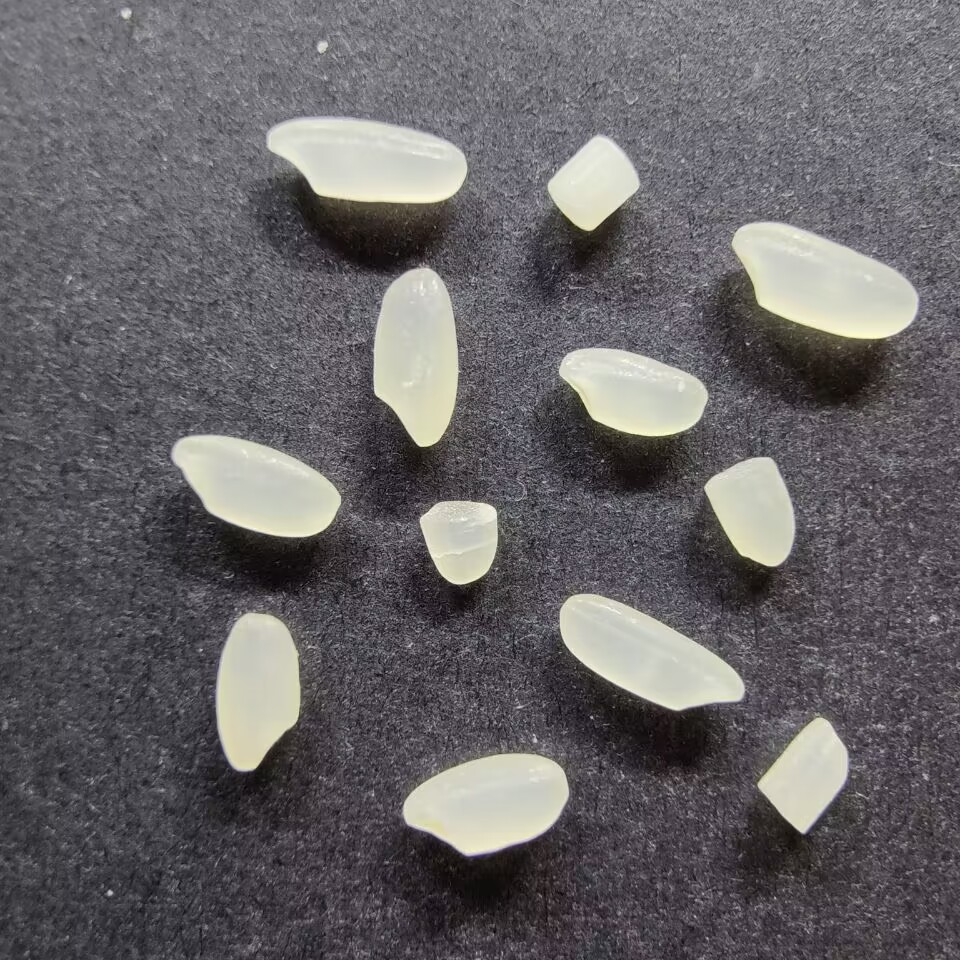broken: (754, 714, 851, 835), (704, 454, 797, 568), (546, 134, 640, 234), (416, 499, 500, 587)
rice: (730, 219, 919, 341), (558, 591, 745, 713), (265, 115, 467, 205), (170, 433, 341, 539), (400, 751, 570, 857), (371, 266, 460, 448), (212, 612, 303, 774), (558, 346, 709, 437)
